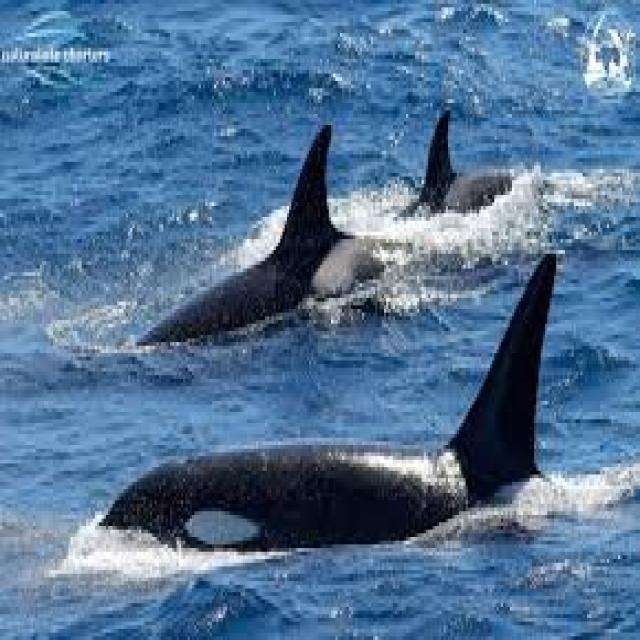whale: (99, 254, 554, 548), (141, 125, 380, 342), (402, 110, 510, 213)
